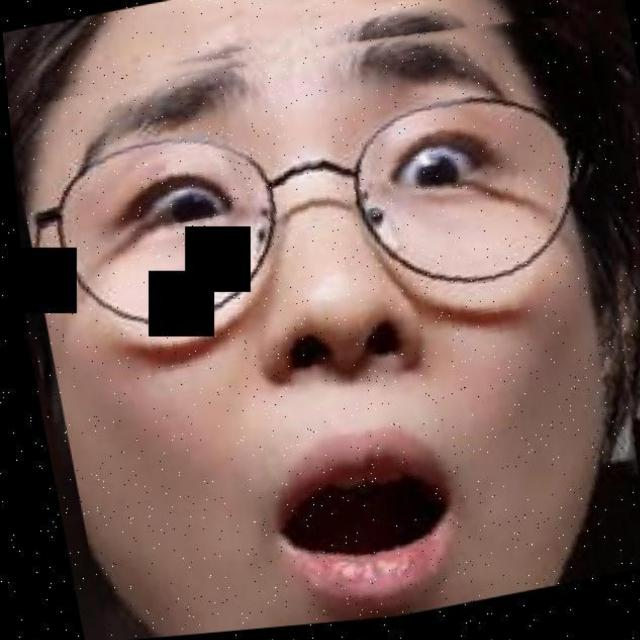Surprised: (85, 4, 555, 637)
